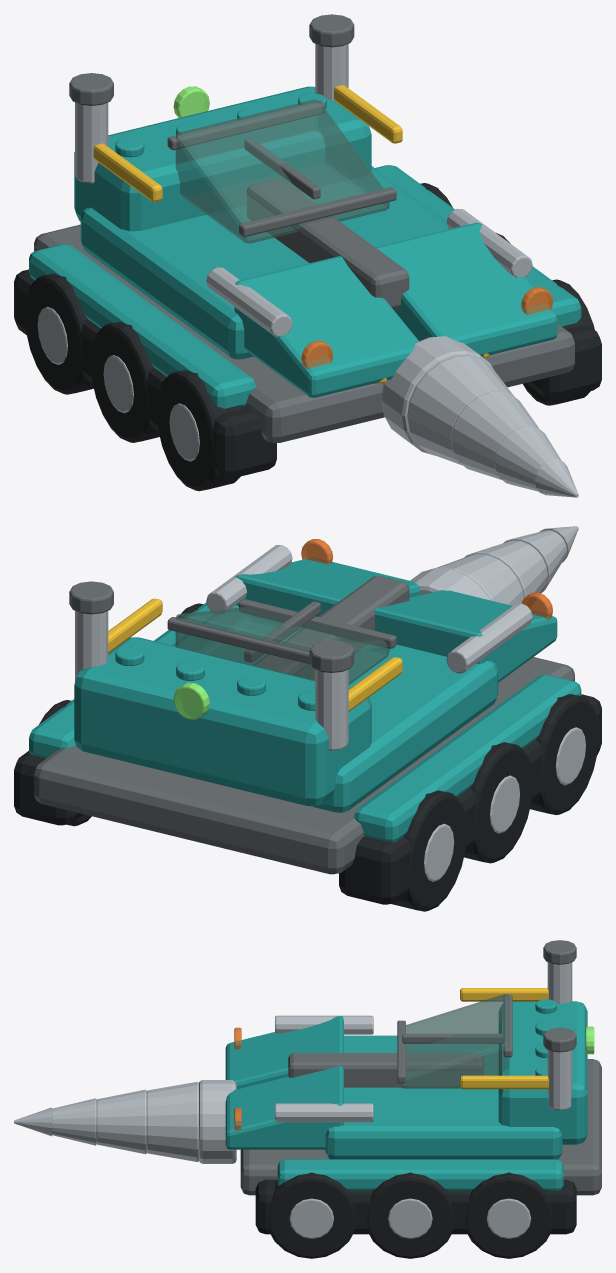
Rendered from raider_drill_rig.glb.
3 views of the same model, one above another, from view 1: azimuth 30°, elevation 25°; view 2: azimuth 150°, elevation 25°; view 3: azimuth 270°, elevation 25° (orthographic). The views are drawn at different scales.
Visible parts, largest first — view 1: Body_RearHousing, Body_MainDeck, Glass_Canopy, Body_LeftNose, Body_RightNose, Neutral_Chassis, Body_TrackGuard_L, Neutral_CenterSpine, Rubber_TrackPod_L, Tool_DrillSegment_A, Rubber_Wheel_L1, Rubber_Wheel_L3 (+25 smaller); view 2: Body_RearHousing, Neutral_Chassis, Body_MainDeck, Body_TrackGuard_L, Body_LeftNose, Glass_Canopy, Rubber_TrackPod_L, Body_RightNose, Rubber_Wheel_L3, Rubber_Wheel_L2, Rubber_Wheel_L1, Neutral_CenterSpine (+23 smaller); view 3: Body_MainDeck, Body_RearHousing, Glass_Canopy, Body_RightNose, Body_TrackGuard_R, Neutral_CenterSpine, Neutral_Chassis, Rubber_Wheel_R1, Rubber_Wheel_R2, Rubber_Wheel_R3, Body_LeftNose, Tool_DrillSegment_A (+19 smaller).
Boxes of the visible parts, box(x1,y1,x2,y2) form: Body_RearHousing: box(74, 86, 371, 231); Body_MainDeck: box(80, 166, 448, 359); Glass_Canopy: box(175, 99, 389, 243); Body_LeftNose: box(234, 256, 418, 397); Body_RightNose: box(375, 222, 557, 356); Neutral_Chassis: box(34, 224, 574, 442); Body_TrackGuard_L: box(29, 244, 256, 408); Neutral_CenterSpine: box(246, 179, 409, 309); Rubber_TrackPod_L: box(14, 269, 276, 478); Tool_DrillSegment_A: box(407, 355, 513, 465); Rubber_Wheel_L1: box(156, 370, 242, 491); Rubber_Wheel_L3: box(24, 273, 93, 394); Body_RearHousing: box(74, 637, 371, 806); Neutral_Chassis: box(34, 657, 574, 874); Body_MainDeck: box(172, 605, 498, 812); Body_TrackGuard_L: box(353, 675, 581, 842); Body_LeftNose: box(374, 590, 557, 682); Glass_Canopy: box(175, 607, 389, 684); Rubber_TrackPod_L: box(339, 694, 601, 904); Body_RightNose: box(235, 558, 420, 616); Rubber_Wheel_L3: box(392, 790, 467, 911); Rubber_Wheel_L2: box(464, 742, 532, 863); Rubber_Wheel_L1: box(530, 694, 598, 815); Neutral_CenterSpine: box(253, 576, 409, 679); Body_MainDeck: box(325, 1035, 562, 1159); Body_RearHousing: box(498, 1001, 587, 1144); Glass_Canopy: box(399, 994, 508, 1088); Body_RightNose: box(225, 1065, 343, 1149); Body_TrackGuard_R: box(277, 1159, 563, 1190); Neutral_CenterSpine: box(288, 1053, 483, 1087); Neutral_Chassis: box(240, 1059, 601, 1195); Rubber_Wheel_R1: box(268, 1172, 355, 1258); Rubber_Wheel_R2: box(366, 1172, 453, 1258); Rubber_Wheel_R3: box(465, 1172, 552, 1258); Body_LeftNose: box(225, 1016, 343, 1089); Tool_DrillSegment_A: box(146, 1082, 198, 1161).
Bounding box in the file's own units: 4.59 × 3.02 × 8.05.
